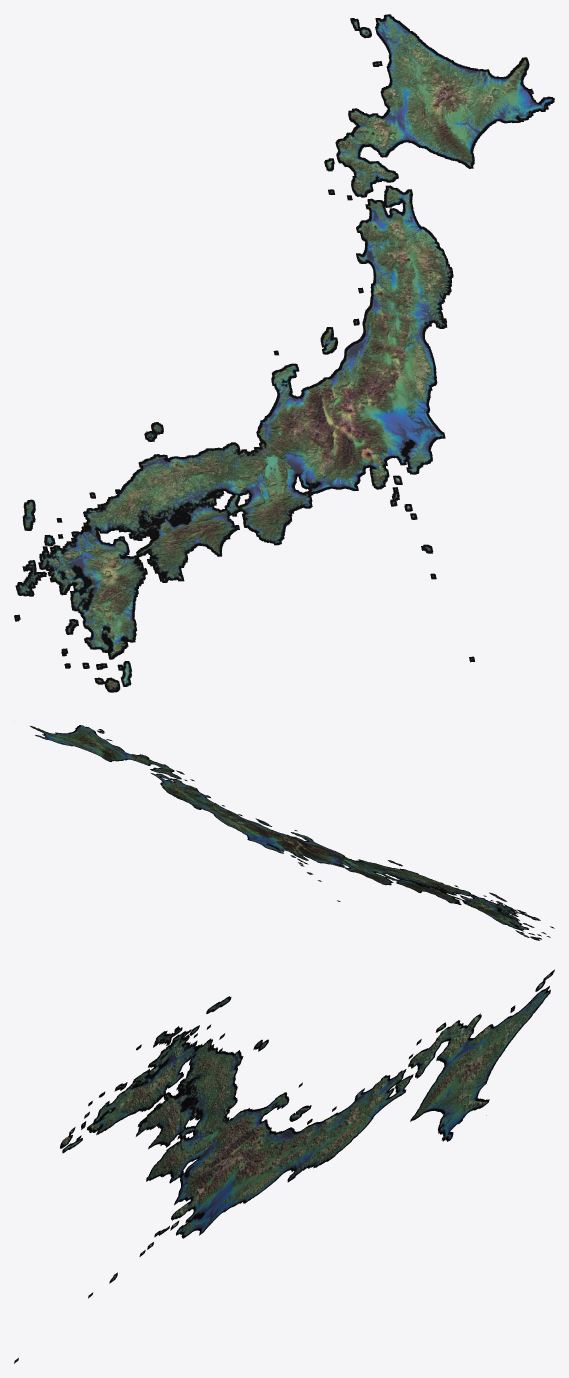
Rendered from japan-map.glb.
3 renders of one model, top to bottom at view 1: azimuth 30°, elevation 25°; view 2: azimuth 150°, elevation 25°; view 3: azimuth 270°, elevation 25°, orthographic. The views are drawn at different scales.
Visible parts, largest first — view 1: mesh2k_Default OBJ_0_0; view 2: mesh2k_Default OBJ_0_0; view 3: mesh2k_Default OBJ_0_0.
Part boxes in pixels (x1,y1,x2,y2): mesh2k_Default OBJ_0_0: (14,14,554,692); mesh2k_Default OBJ_0_0: (30,725,554,940); mesh2k_Default OBJ_0_0: (14,969,554,1363).
Bounding box in the file's own units: 38911 × 22714 × 24159.
Materials: 1 (1 with a texture image).
